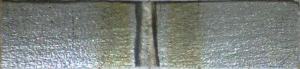soldas: (99, 2, 202, 68)
